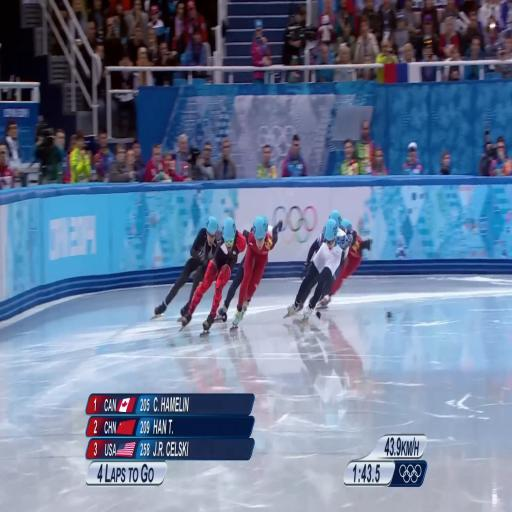Skater: (182, 218, 246, 332), (286, 219, 349, 319), (155, 217, 218, 317), (233, 216, 282, 328), (319, 220, 371, 307), (216, 251, 248, 321), (304, 228, 324, 272)
